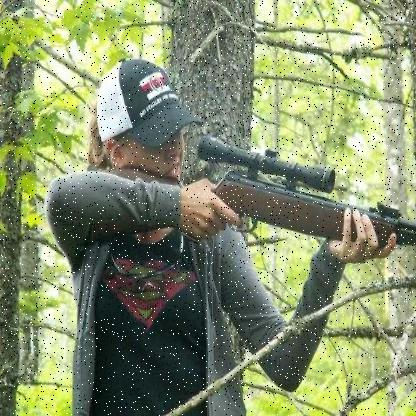rifle: (85, 136, 415, 301)
